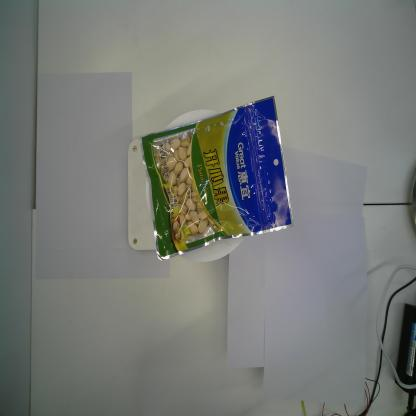Dried Fruit: (140, 94, 294, 263)
